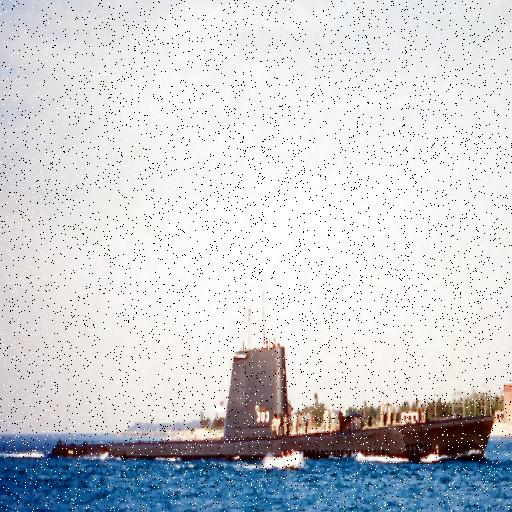submarine: (126, 343, 409, 461)
